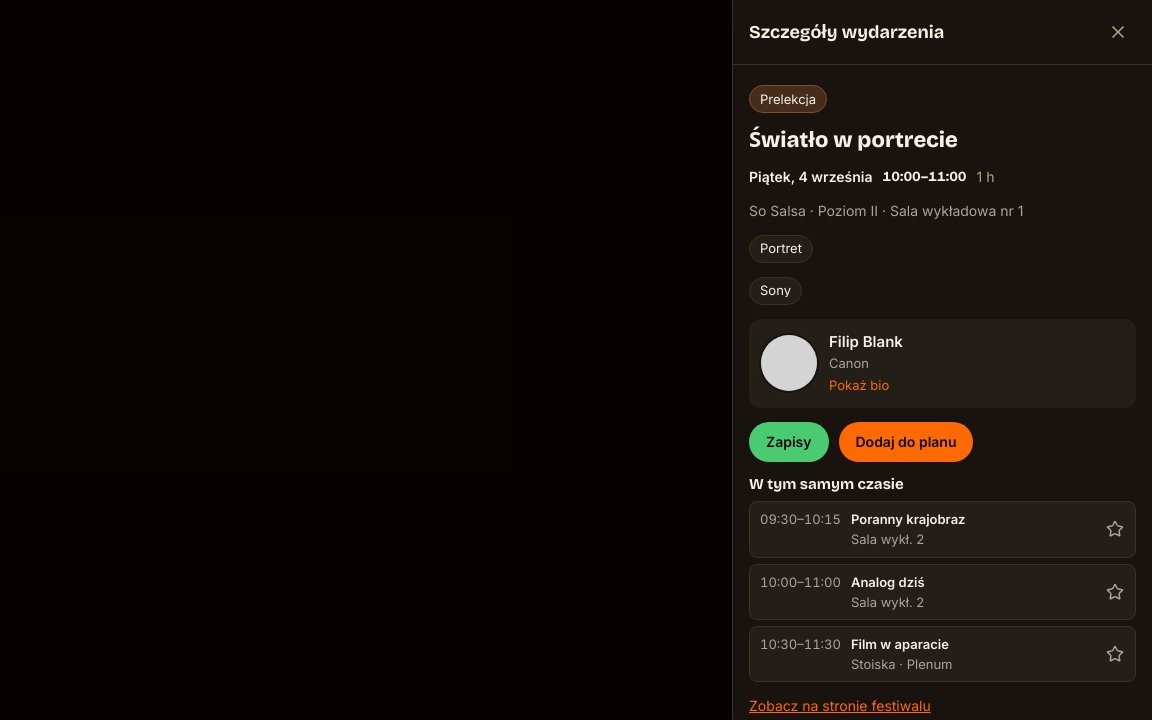
Test case: DetailSheet › switches the panel to a same-time session when its row is clicked
The width and height of the screenshot is (1152, 720).
Click the button with aria-label "Analog dziś,": (800, 582) [750,565,1135,619]
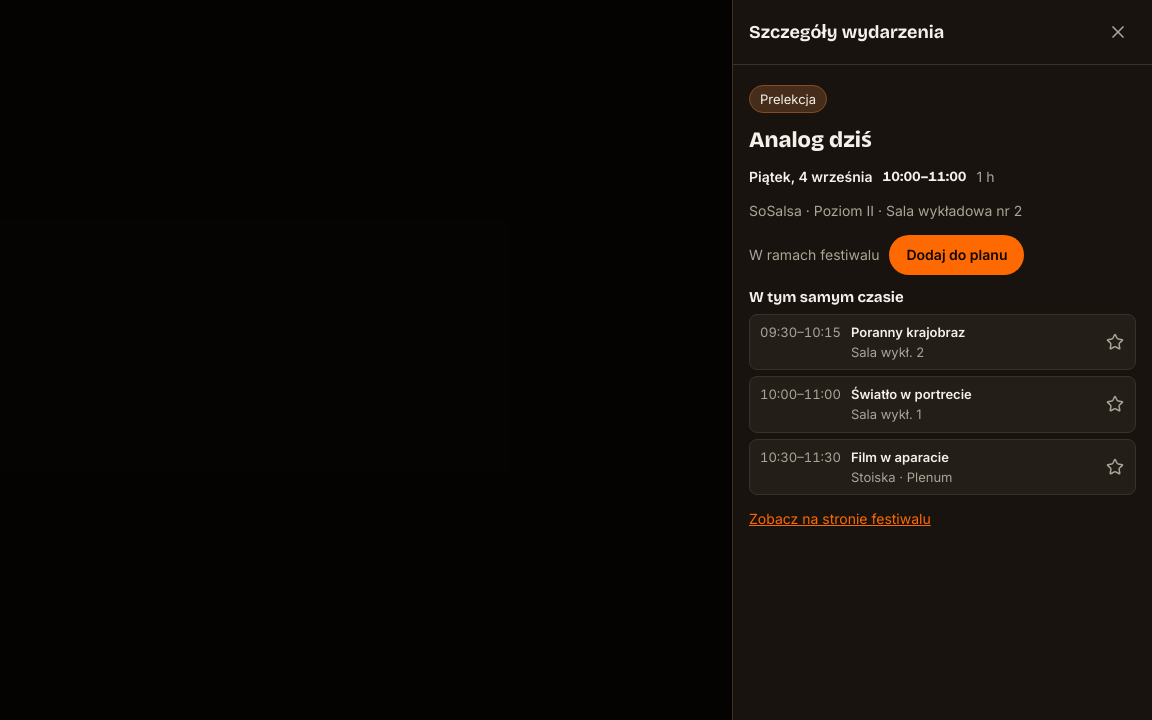
Expected: the button with aria-label "Światło w portrecie," is shown, [750,377,1135,432]
Now the heading "Analog dziś" is shown, box [749,127,872,153]
